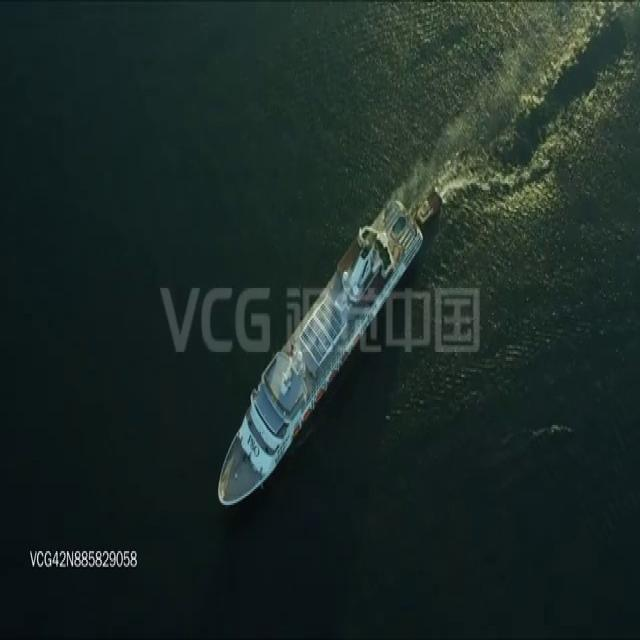passenger ship: (212, 190, 420, 516)
